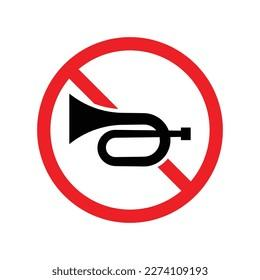Horn Prohibited: (23, 23, 230, 229)
